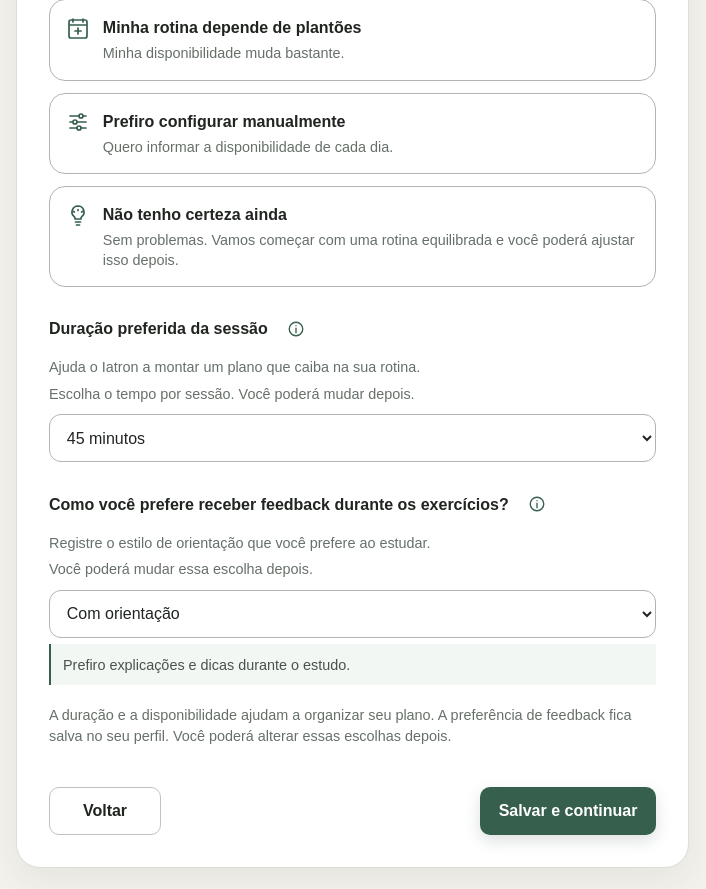
Test: rotina de estudos do onboarding › explica como a duração e o feedback serão usados
The width and height of the screenshot is (706, 889).
(page scrolled)
Expected: the text "Ajuda o Iatron a montar um plano que caiba na sua rotina." is shown, x1=49 y1=359 x2=420 y2=375
Expected: the text "Escolha o tempo por sessão. Você poderá mudar depois." is shown, x1=49 y1=386 x2=415 y2=402
Step 1. Select "Somente resultado" in the dropdown labelled "Como você prefere receber feedback durante os exercícios?" → {"x": 352, "y": 614}, box x1=49 y1=590 x2=656 y2=638
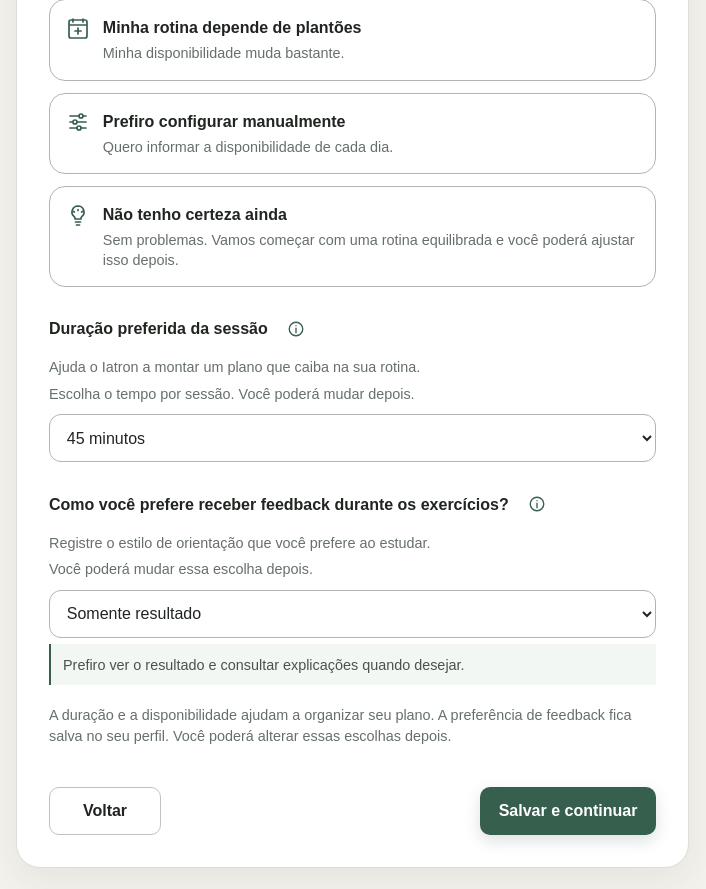
Expected: the text "A duração e a disponibilidade ajudam a organizar seu plano. A preferência de feedback fica salva no seu perfil. Você pod" is shown, x1=49 y1=707 x2=631 y2=744
Result: the text "Prefiro ver o resultado e consultar explicações quando desejar." is shown at x1=49 y1=644 x2=656 y2=685
